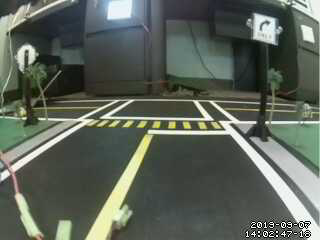Right_only_sign: (250, 12, 281, 48)
